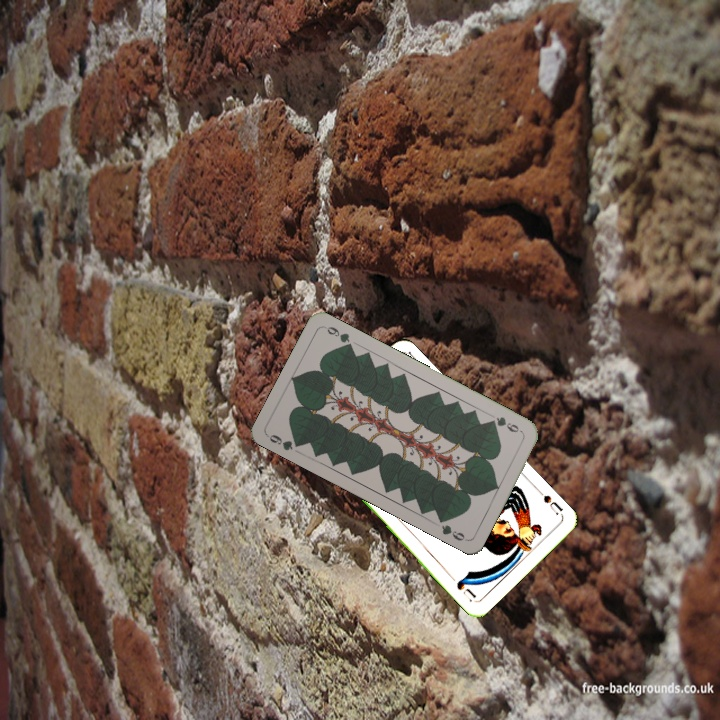G9: (264, 430, 305, 453), (486, 413, 525, 435)
SU: (539, 491, 566, 517)
